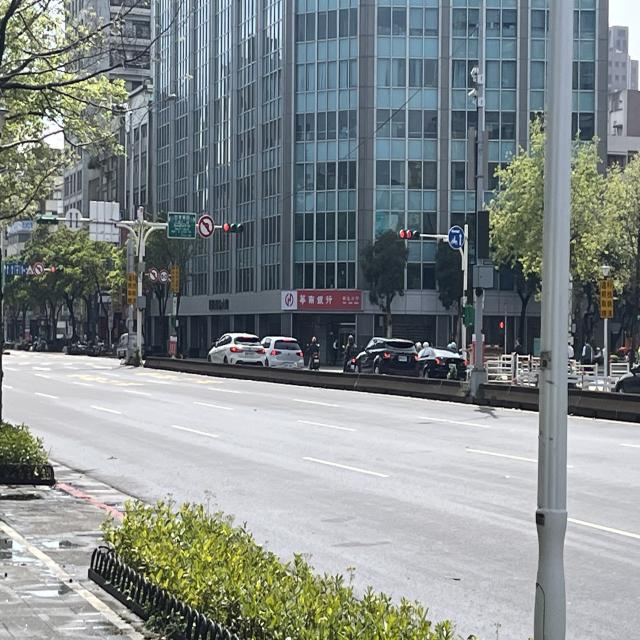red light: (398, 228, 421, 242), (223, 222, 245, 235), (49, 266, 67, 275)
